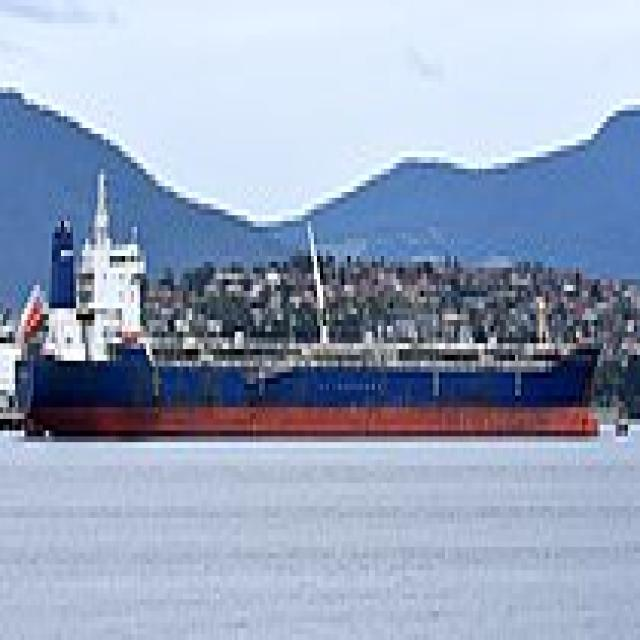Tanker: (9, 227, 600, 436)
